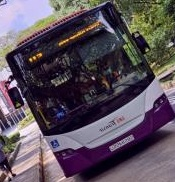bus: (24, 47, 47, 62)
